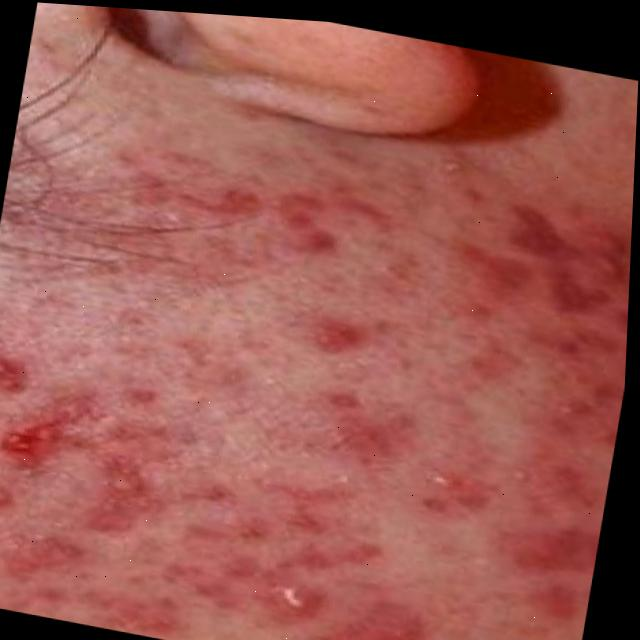Acne: (0, 87, 636, 640)
